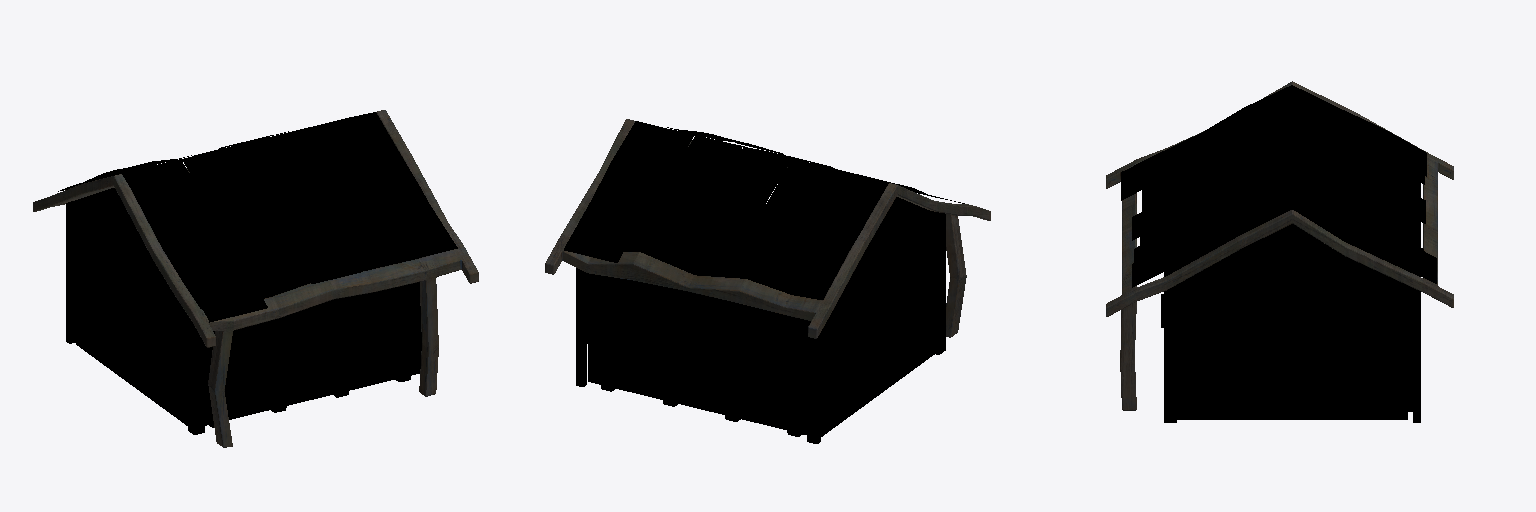
3 views of the same model, side by side, from view 1: azimuth 30°, elevation 25°; view 2: azimuth 150°, elevation 25°; view 3: azimuth 270°, elevation 25° (orthographic).
Parts seen in each view (by area): view 1: Shack_grp RoofplanksMED, Shack_grp Cabin_wallsMED, Shack_roofframeMED Shack_grp, Shack_grp Cabin_foundationMED; view 2: Shack_grp Cabin_wallsMED, Shack_grp RoofplanksMED, Shack_grp Cabin_foundationMED, Shack_roofframeMED Shack_grp; view 3: Shack_grp RoofplanksMED, Shack_grp Cabin_wallsMED, Shack_roofframeMED Shack_grp, Shack_grp Cabin_foundationMED.
Boxes of the visible parts, <box> form: Shack_grp RoofplanksMED: <box>58,112,457,322</box>; Shack_grp Cabin_wallsMED: <box>66,173,425,434</box>; Shack_roofframeMED Shack_grp: <box>33,110,478,447</box>; Shack_grp Cabin_foundationMED: <box>76,303,421,427</box>; Shack_grp Cabin_wallsMED: <box>576,148,945,443</box>; Shack_grp RoofplanksMED: <box>564,121,964,299</box>; Shack_grp Cabin_foundationMED: <box>588,313,934,436</box>; Shack_roofframeMED Shack_grp: <box>545,119,990,338</box>; Shack_grp RoofplanksMED: <box>1121,85,1436,287</box>; Shack_grp Cabin_wallsMED: <box>1161,114,1420,422</box>; Shack_roofframeMED Shack_grp: <box>1106,81,1453,410</box>; Shack_grp Cabin_foundationMED: <box>1177,379,1412,419</box>.
Size of the model in its own units: 5.97 by 4.56 by 6.61.
4 materials, 1 textured.